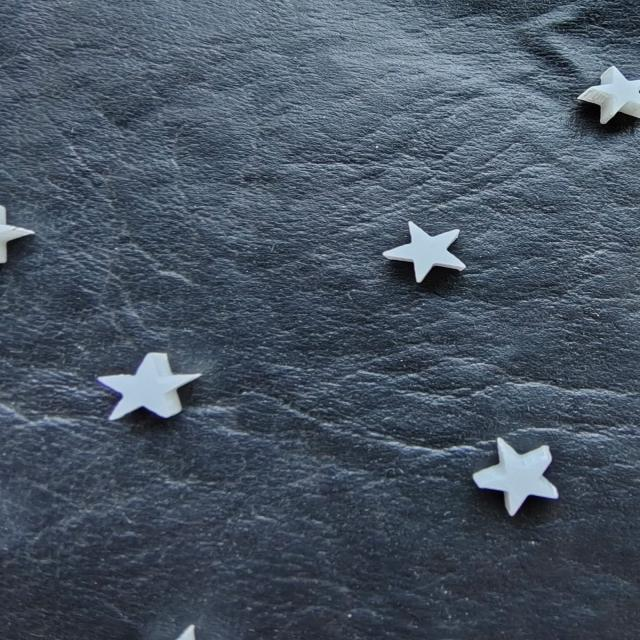estrellas: (96, 351, 197, 420), (384, 222, 466, 282), (483, 450, 555, 514)
